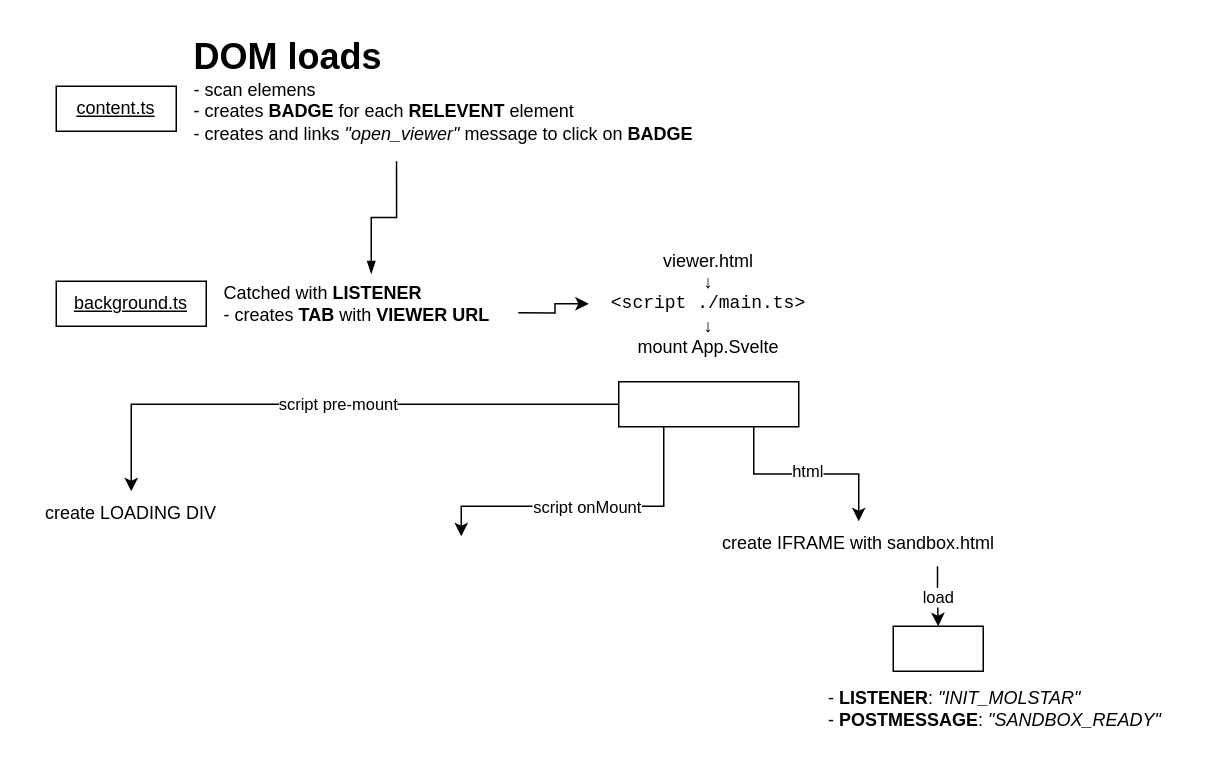
Some shapes in this 1226 by 764 pixel diagram are drawn without their labels. Here are the shapes that lost their labels. From the top down, the box of each, then its label:
(617, 380, 799, 427): viewer/App.svelte
(892, 625, 983, 671): main.ts
